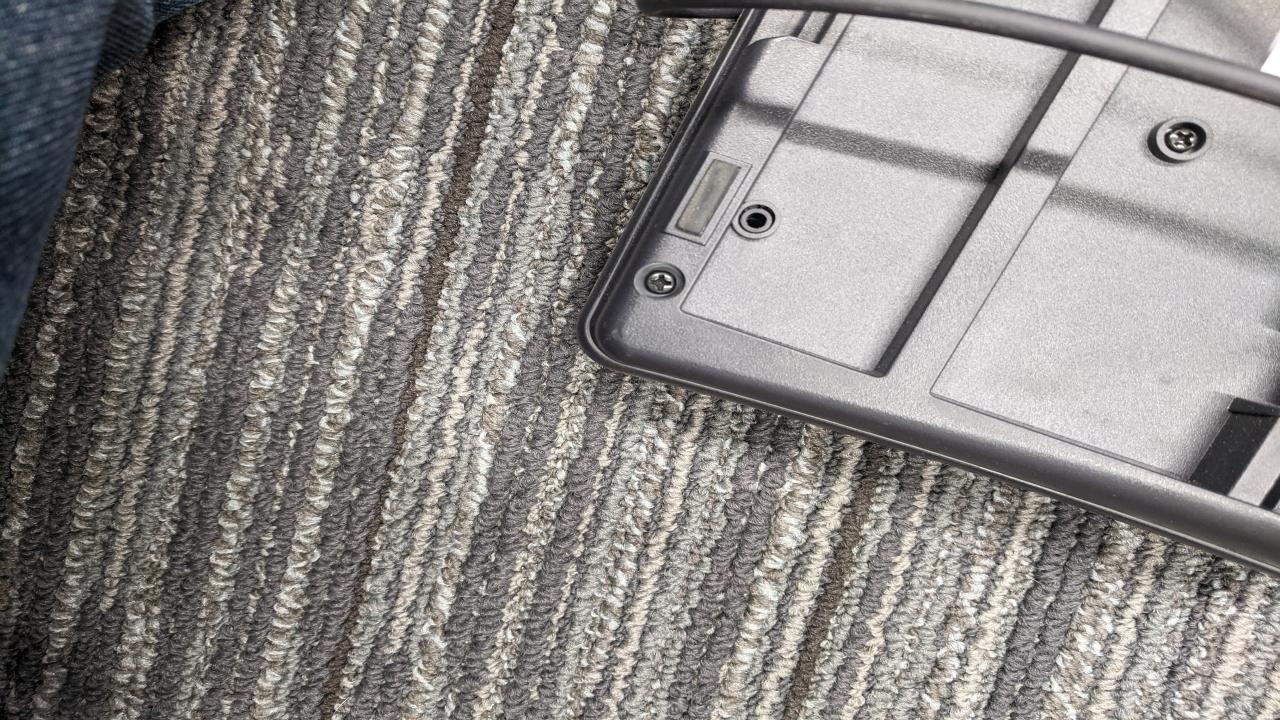CRS: (642, 263, 676, 295), (1166, 127, 1202, 153)
